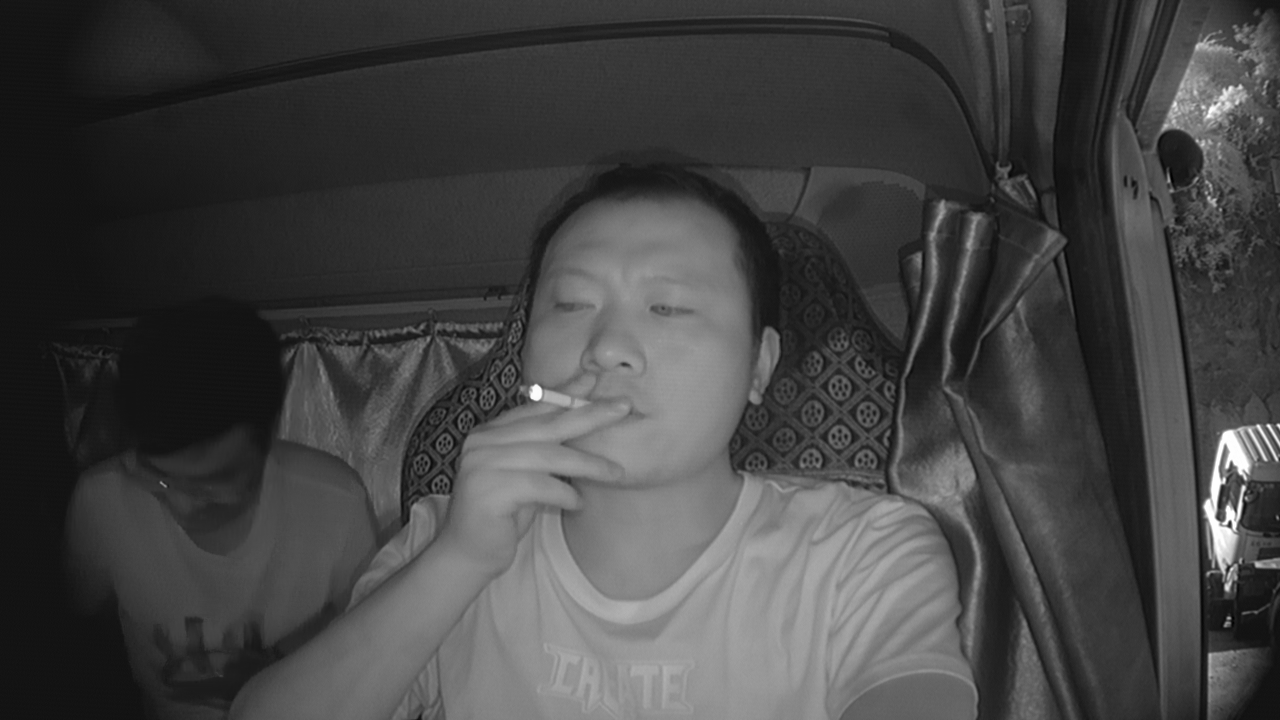hand: (478, 368, 628, 530)
